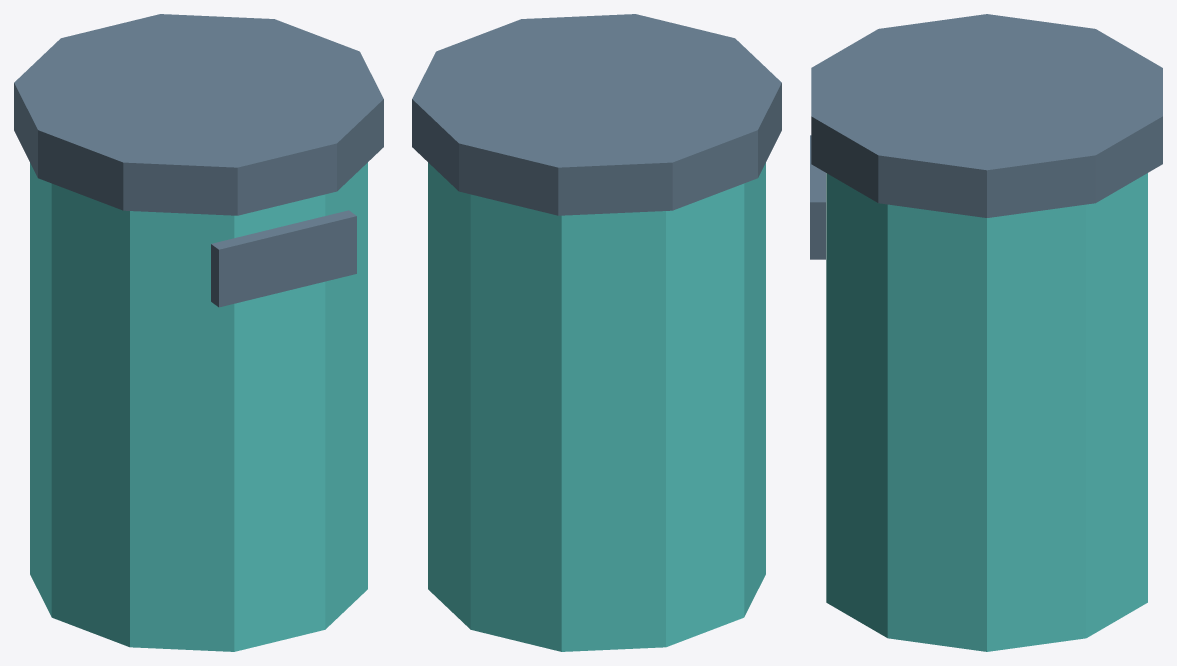
File: 16_trash_bin.glb
3 views of the same model, side by side, from view 1: azimuth 30°, elevation 25°; view 2: azimuth 150°, elevation 25°; view 3: azimuth 270°, elevation 25° (orthographic).
Parts seen in each view (by area): view 1: 16_trash_bin; view 2: 16_trash_bin; view 3: 16_trash_bin.
Boxes of the visible parts, x1=… form: 16_trash_bin: x1=14, y1=14, x2=383, y2=651; 16_trash_bin: x1=412, y1=14, x2=781, y2=651; 16_trash_bin: x1=810, y1=14, x2=1162, y2=651.
Bounding box in the file's own units: 0.7 × 1.02 × 0.6679.
